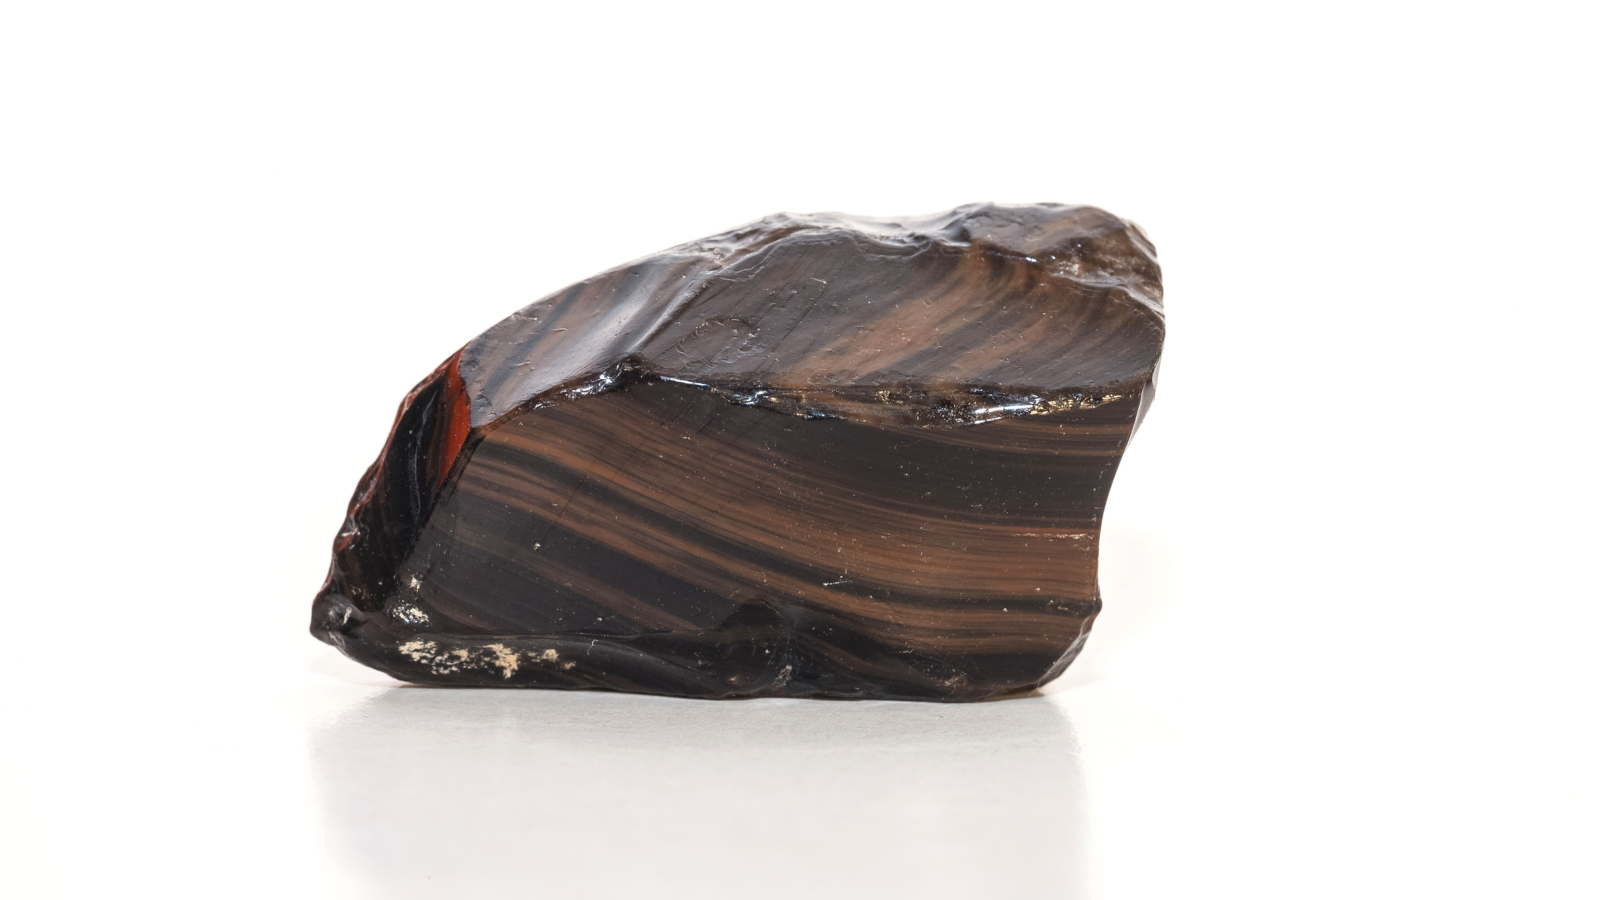Obsidian: (307, 198, 1167, 702)
